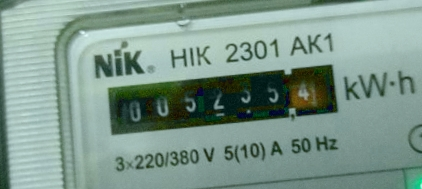0: (125, 97, 142, 123), (153, 93, 170, 118)
2: (208, 84, 226, 111)
3: (234, 79, 253, 105)
4: (292, 74, 312, 104)
5: (262, 76, 280, 105), (181, 87, 197, 113)
screen: (92, 52, 347, 144)
